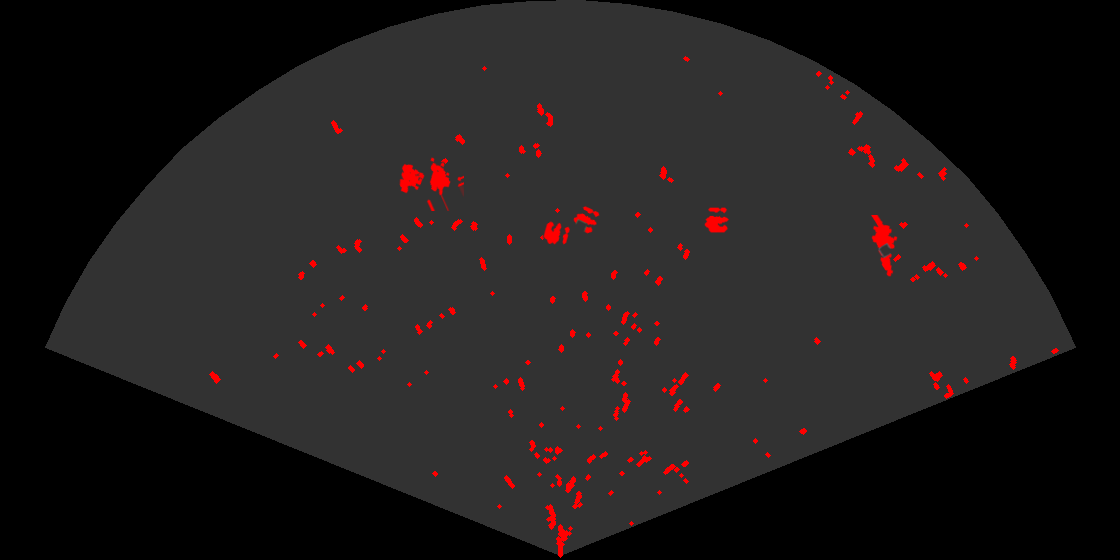ball: (572, 205, 601, 235), (703, 206, 731, 234), (542, 219, 571, 246)
cage: (398, 156, 464, 211)
frogman: (870, 215, 899, 278)
